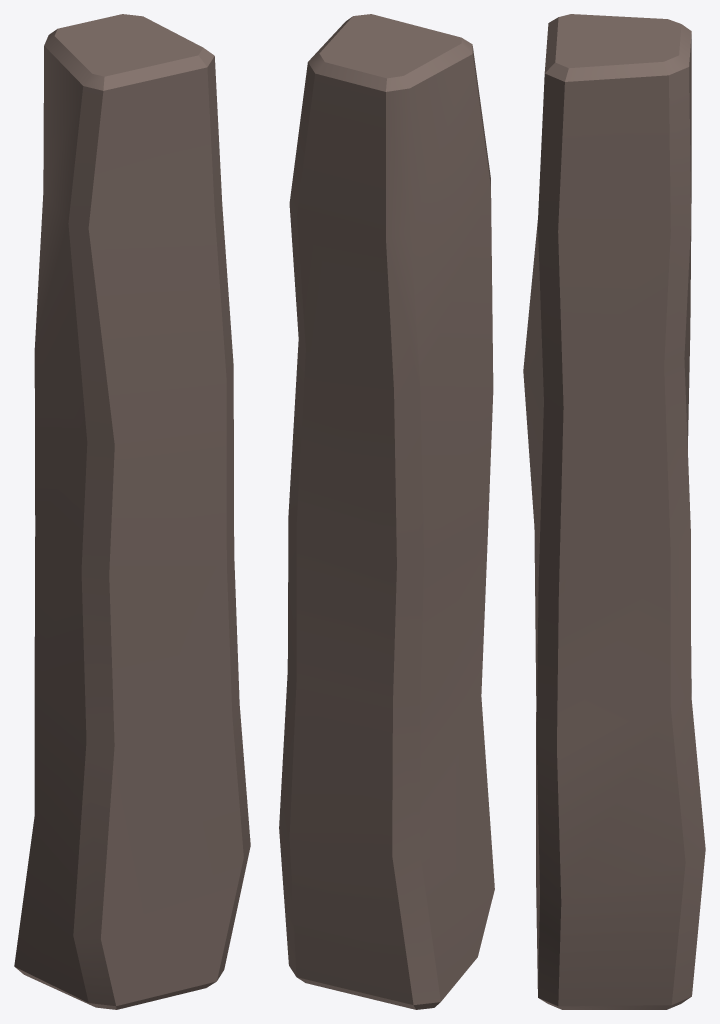
The model's file is Village_Pillar_Stone_A.fbx.
3 renders of one model, left to right at view 1: azimuth 30°, elevation 25°; view 2: azimuth 150°, elevation 25°; view 3: azimuth 270°, elevation 25°, orthographic.
Parts seen in each view (by area): view 1: Village_Wall_2m_Stone_Pillar_A.026; view 2: Village_Wall_2m_Stone_Pillar_A.026; view 3: Village_Wall_2m_Stone_Pillar_A.026.
Boxes of the visible parts, x1,y1,x2,y2 form: Village_Wall_2m_Stone_Pillar_A.026: (14, 14, 250, 1009); Village_Wall_2m_Stone_Pillar_A.026: (279, 14, 494, 1009); Village_Wall_2m_Stone_Pillar_A.026: (523, 14, 705, 1009).
Size of the model in its own units: 41.04 by 200 by 35.24.
